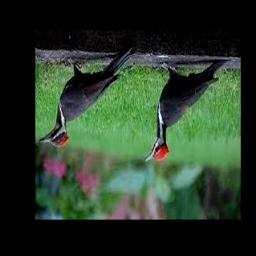Woodpecker: (39, 48, 135, 148), (144, 61, 228, 163)
